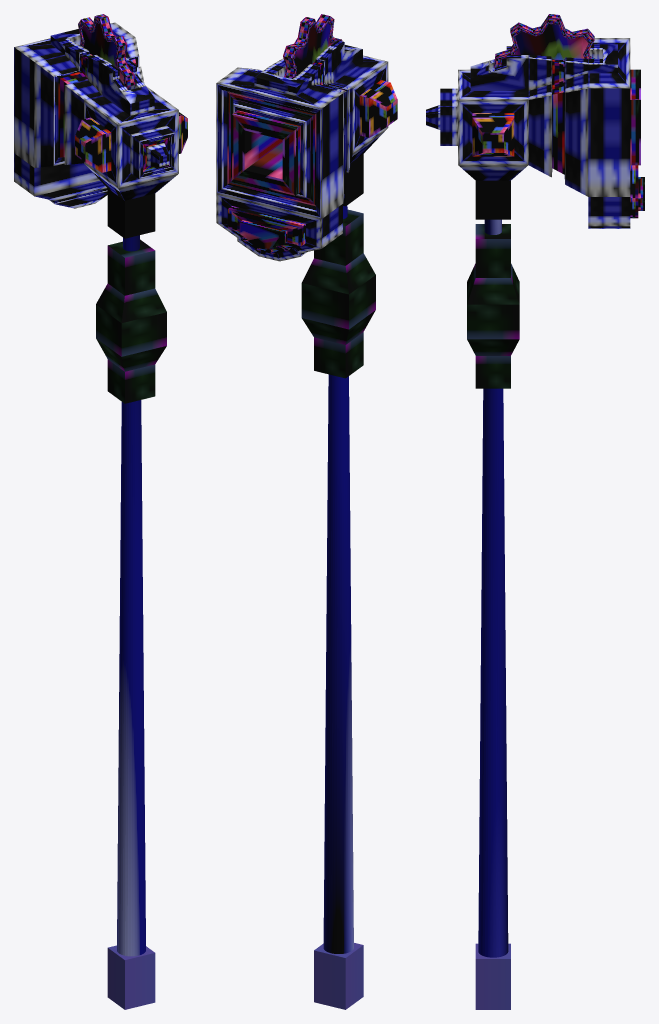
Rendered from Dispenser_2_0.fbx.
3 renders of one model, left to right at view 1: azimuth 30°, elevation 25°; view 2: azimuth 150°, elevation 25°; view 3: azimuth 270°, elevation 25°, orthographic. The views are drawn at different scales.
Visible parts, largest first — view 1: Dispenser, Dispenser_Prop_0, Dispenser_Prop_1, Gear; view 2: Dispenser, Dispenser_Prop_0, Dispenser_Prop_1, Gear; view 3: Dispenser, Dispenser_Prop_0, Dispenser_Prop_1, Gear.
Part boxes in pixels (box(x1,y1,x2,y2)): Dispenser: box(14, 22, 187, 208); Dispenser_Prop_0: box(107, 188, 155, 1009); Dispenser_Prop_1: box(96, 239, 166, 403); Gear: box(78, 14, 135, 89); Dispenser: box(216, 40, 397, 261); Dispenser_Prop_0: box(314, 154, 363, 1009); Dispenser_Prop_1: box(301, 209, 375, 378); Gear: box(283, 14, 342, 78); Dispenser: box(426, 38, 644, 228); Dispenser_Prop_0: box(475, 180, 510, 1009); Dispenser_Prop_1: box(467, 224, 519, 388); Gear: box(494, 14, 594, 67).
Size of the model in its own units: 1.01 by 9.08 by 1.83.
1 material, 1 textured.
